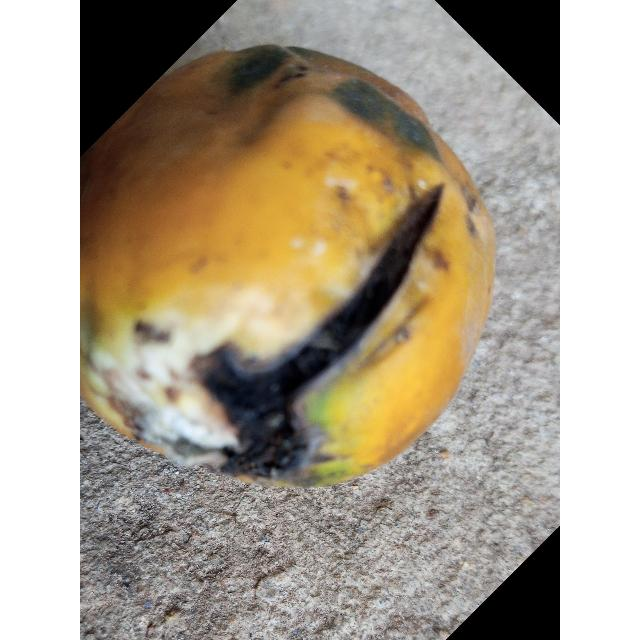damaged: (80, 44, 494, 487)
